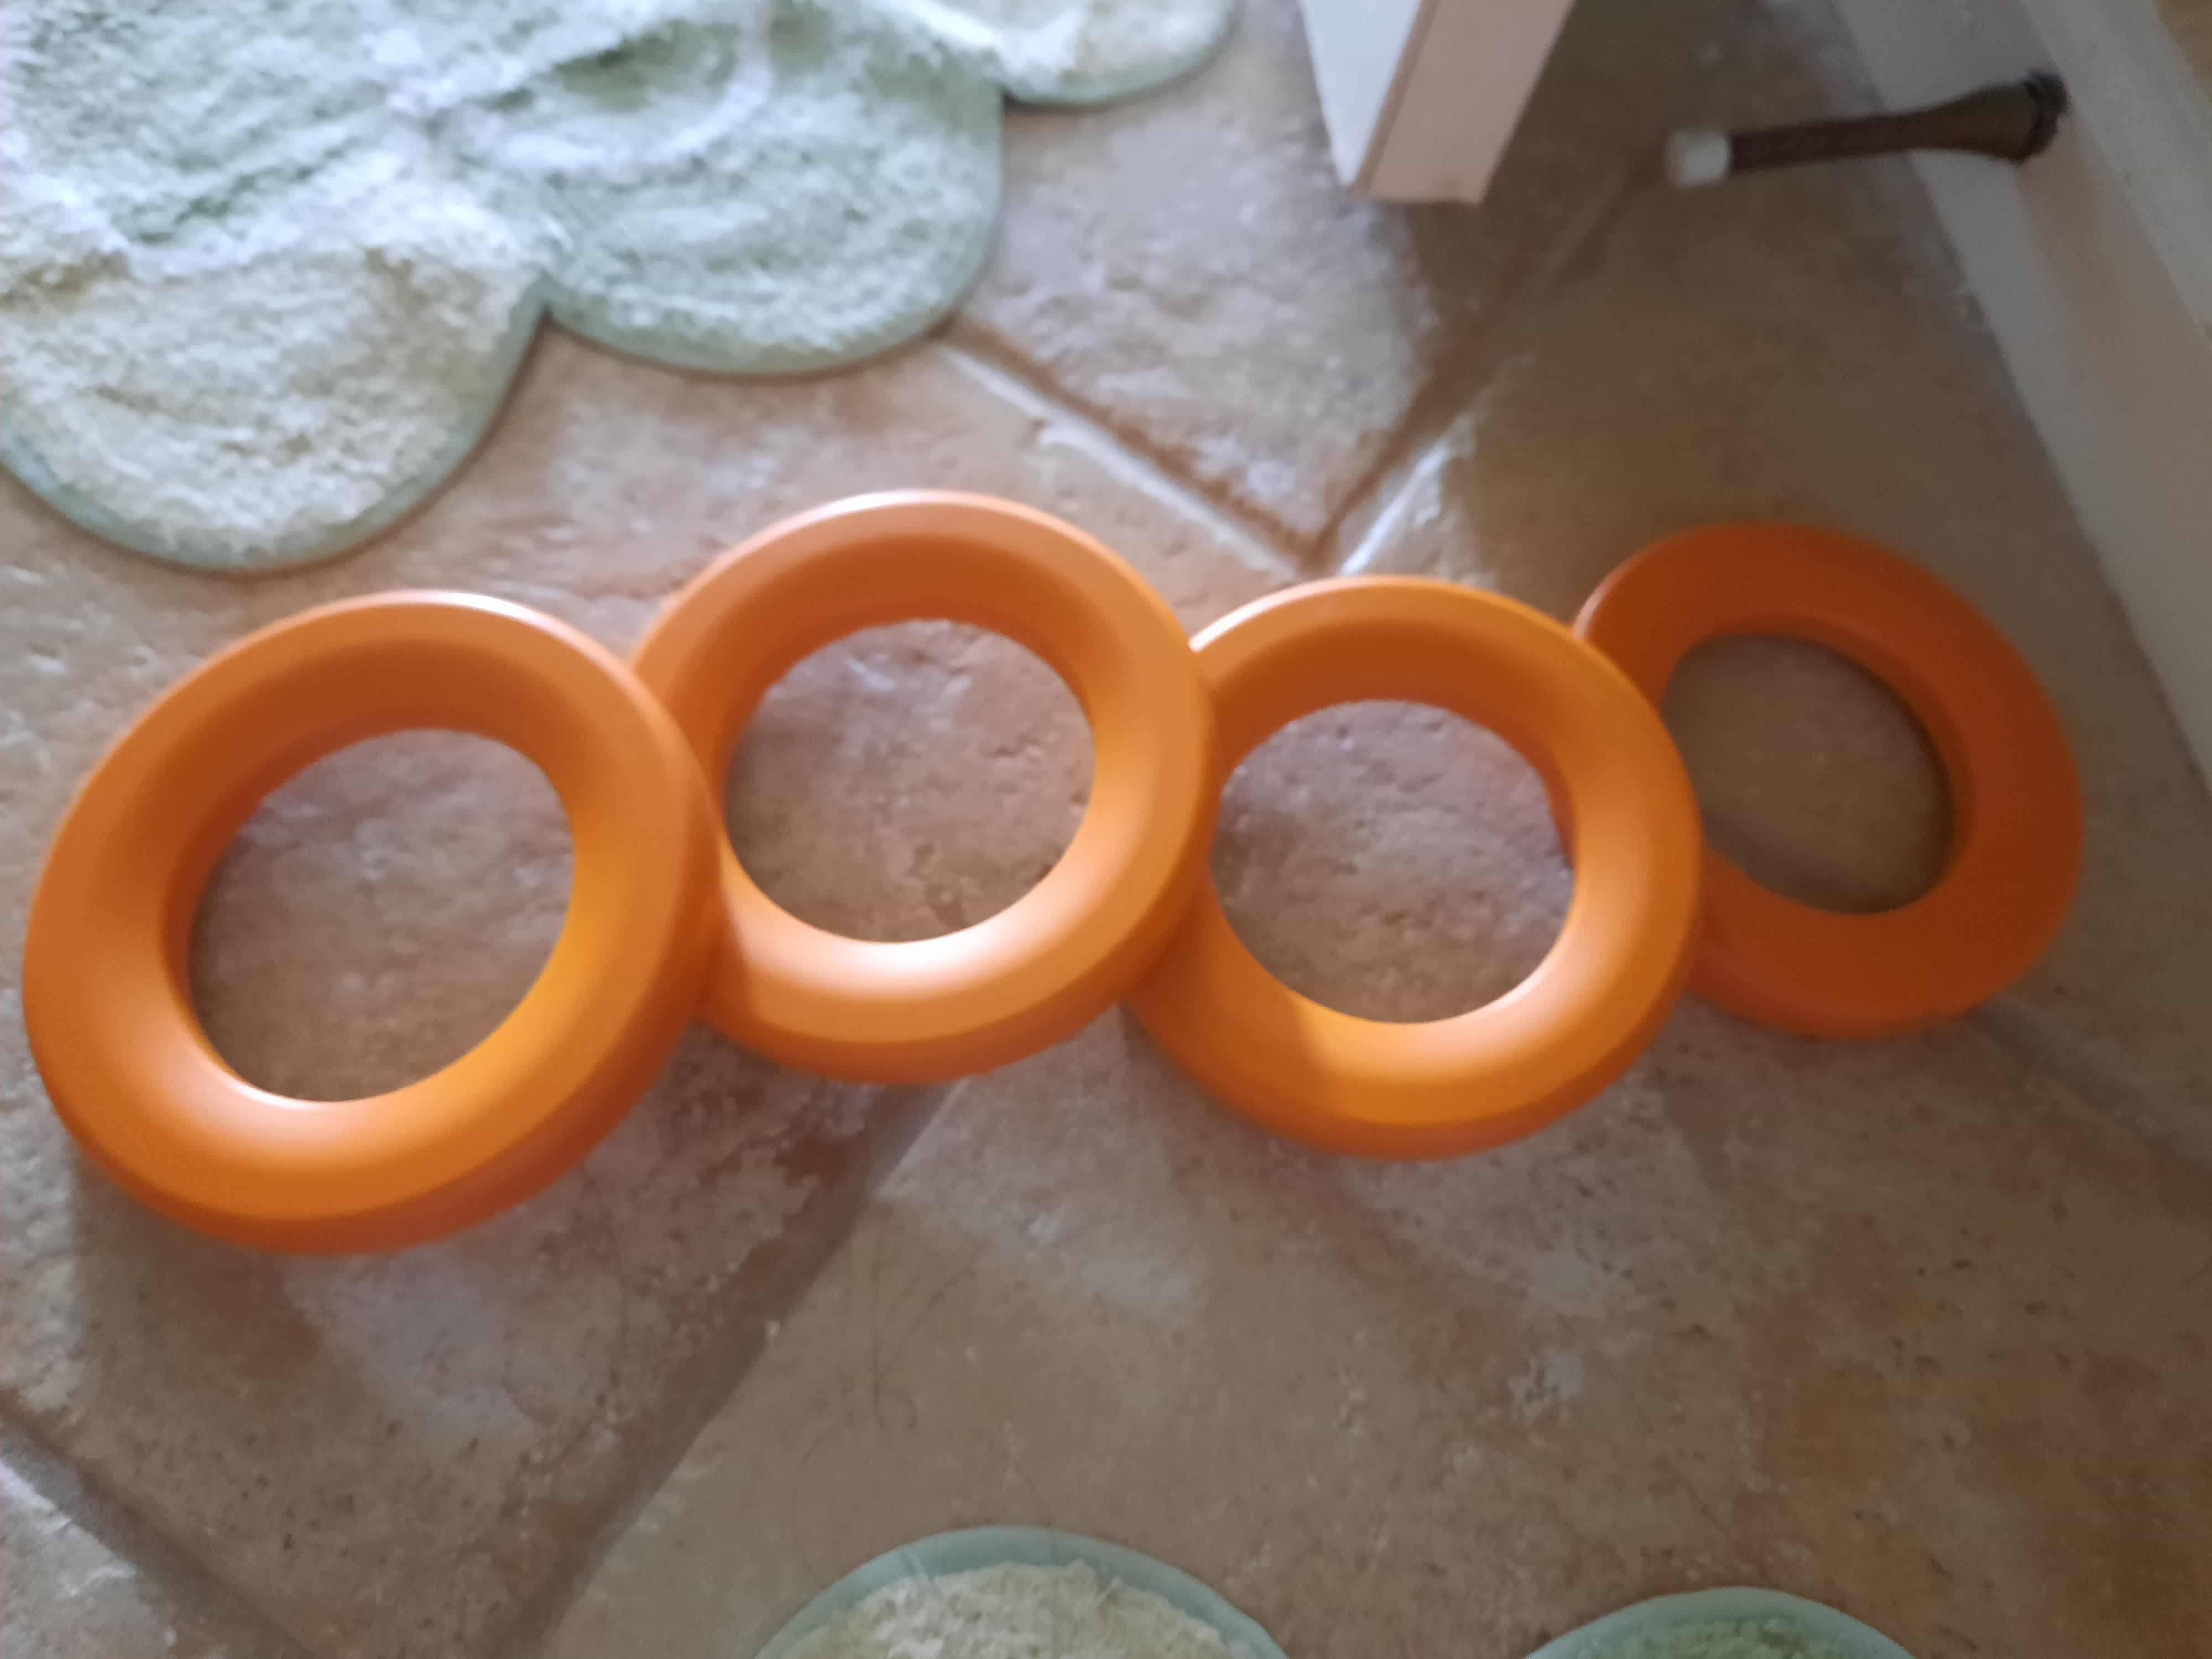OneStack: (33, 598, 702, 1239), (631, 502, 1204, 1080), (1157, 561, 1695, 1162), (1580, 519, 2085, 1061)
